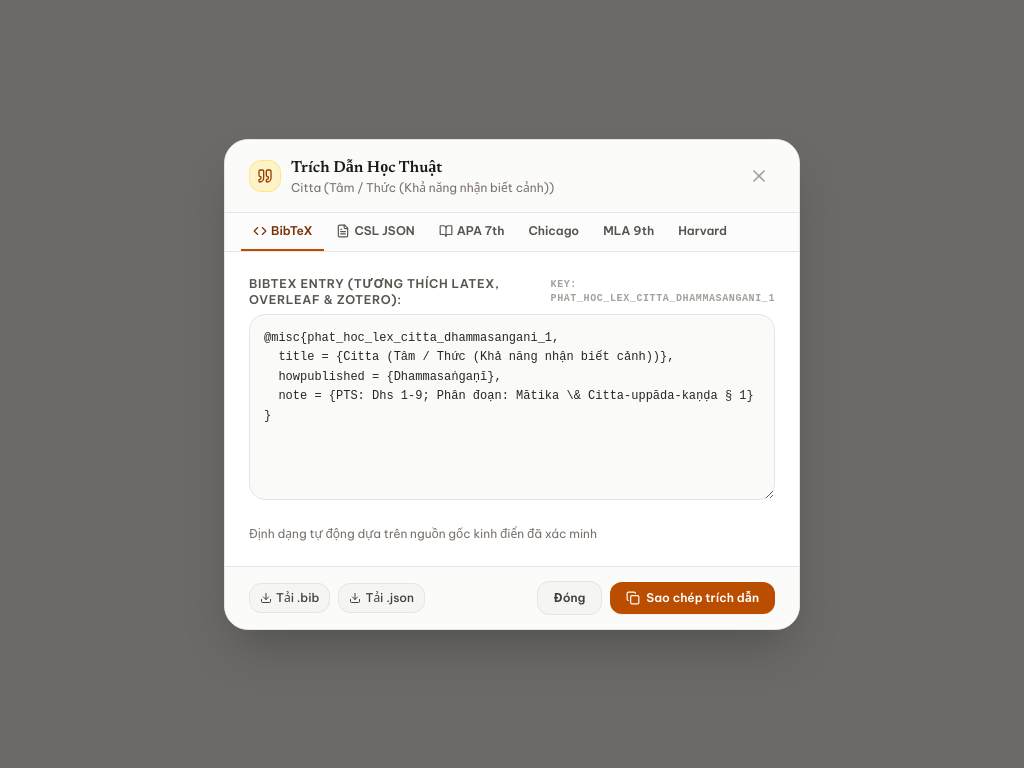
Phase P8.4: ScholarCitationModal Timer Reliability & Cleanup › 1. Resets feedback timer cleanly on rapid consecutive copy clicks
The width and height of the screenshot is (1024, 768).
First click
Click the button "Sao chép trích dẫn" at (693, 598), box [610,582,775,614]
Wait 1000 ms
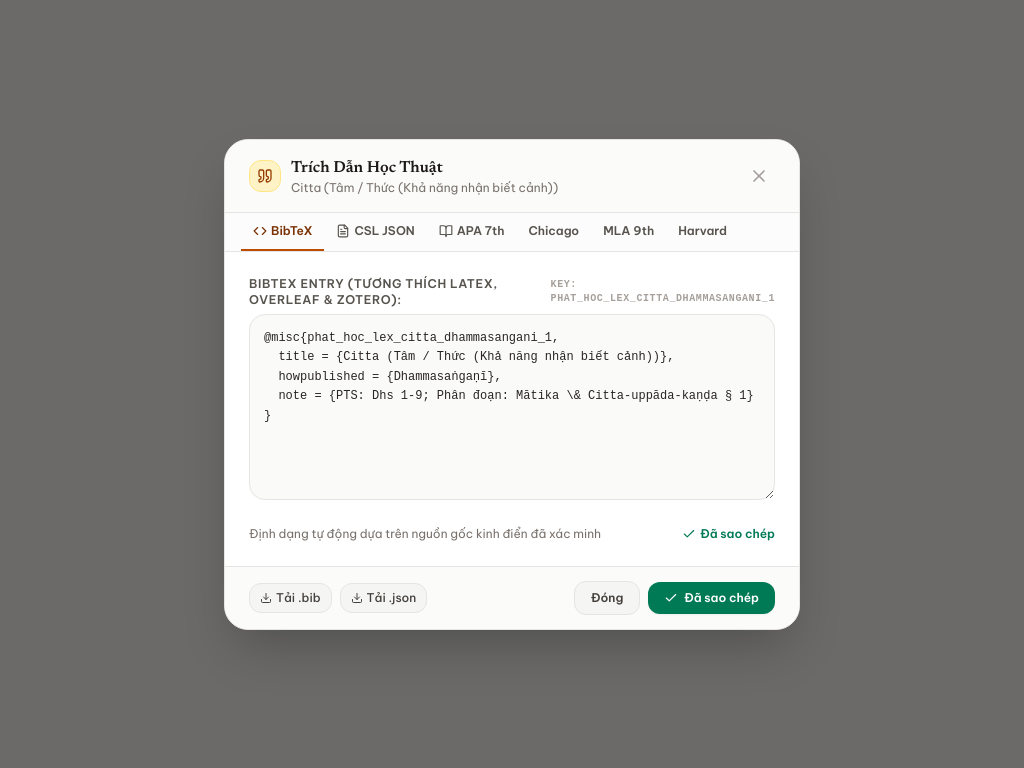
Expected: the button "Đã sao chép" is shown
Second click (should reset timer to fresh 2000ms)
Click the button "Đã sao chép" at (712, 598), box [648,582,775,614]
Wait 2100 ms
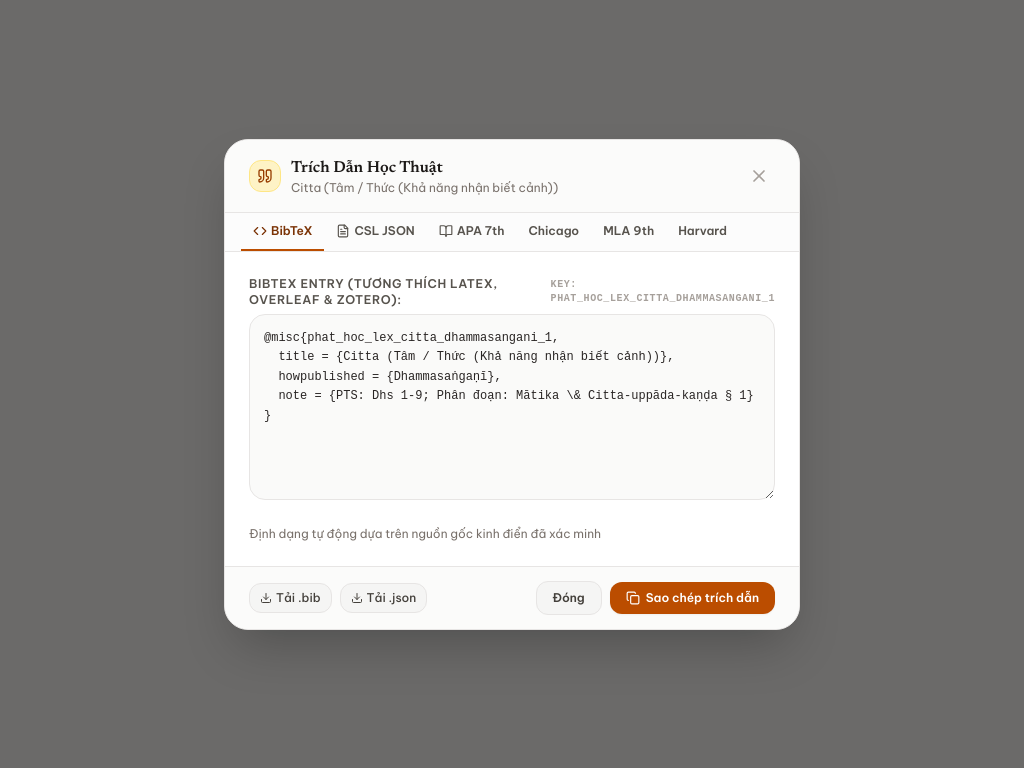
Expected: the button "Đã sao chép" is gone
Expected: the button "Sao chép trích dẫn" is shown, [610,582,775,614]
